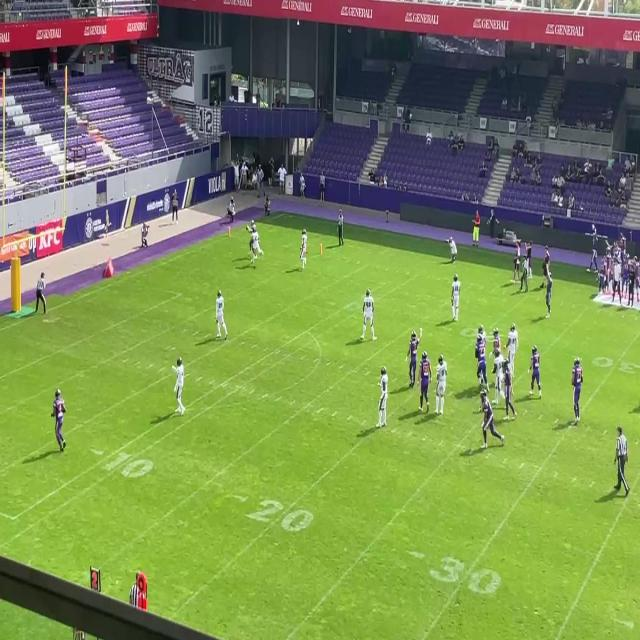1: (90, 447, 140, 478)
2: (247, 490, 283, 532)
3: (429, 546, 466, 593)
american-football-players: (478, 391, 508, 450), (50, 389, 67, 457), (501, 358, 519, 420), (170, 355, 188, 414), (359, 288, 379, 341), (489, 347, 506, 405), (474, 335, 491, 392), (377, 368, 391, 432), (419, 350, 432, 418), (212, 289, 229, 340), (405, 330, 419, 390), (435, 354, 448, 416), (529, 345, 543, 401), (505, 322, 519, 378), (573, 358, 583, 423), (250, 225, 264, 268), (450, 273, 462, 320), (544, 269, 554, 322), (246, 215, 256, 254), (300, 228, 308, 270), (491, 327, 502, 354), (477, 322, 488, 346)
